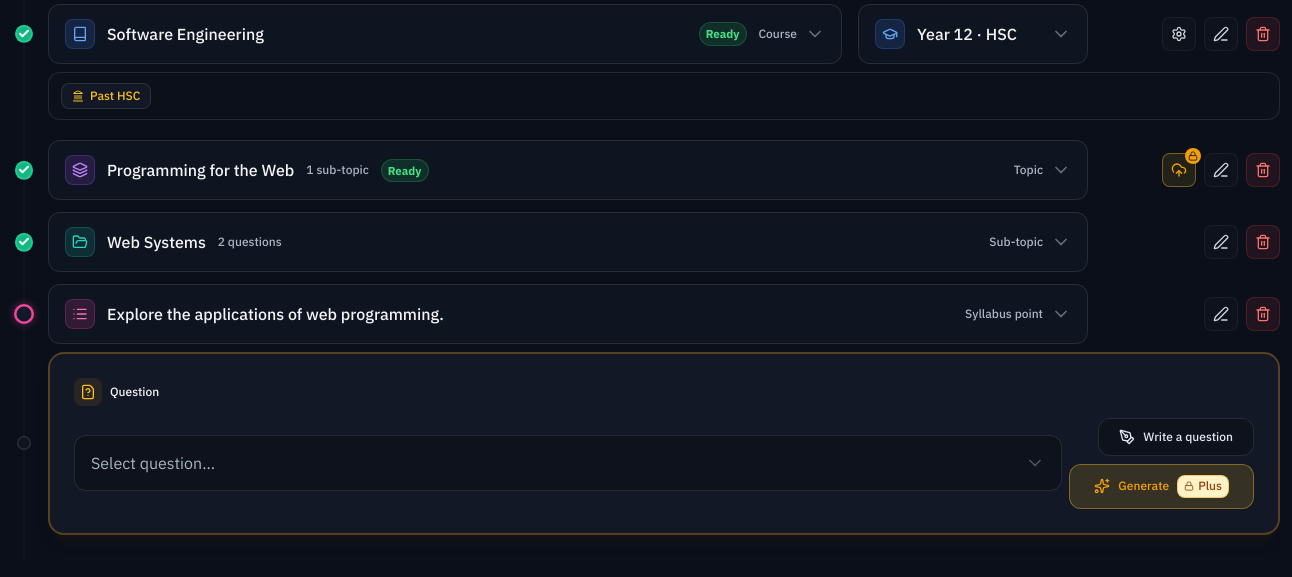
Test: past HSC navigator › lists the years newest first, straight after All years
Click the button "Past HSC".
click(106, 96)  # box [61, 83, 151, 109]
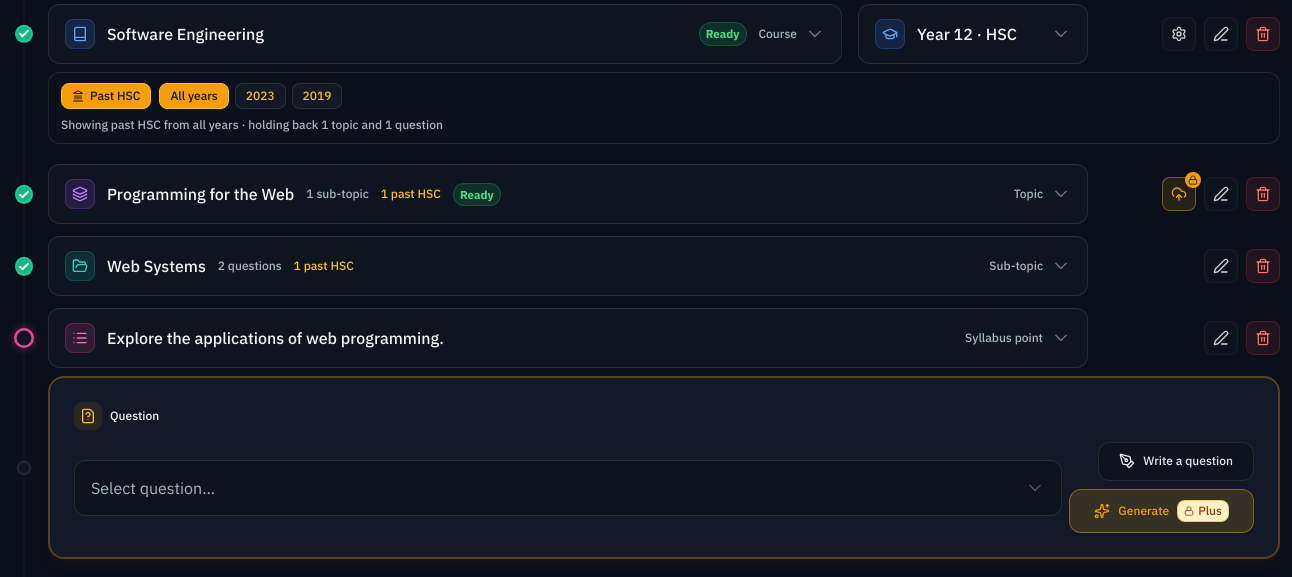
Check: the buttons read "All years", "2023", "2019", in this order, box [159, 83, 229, 109]; [235, 83, 286, 109]; [292, 83, 342, 109]
